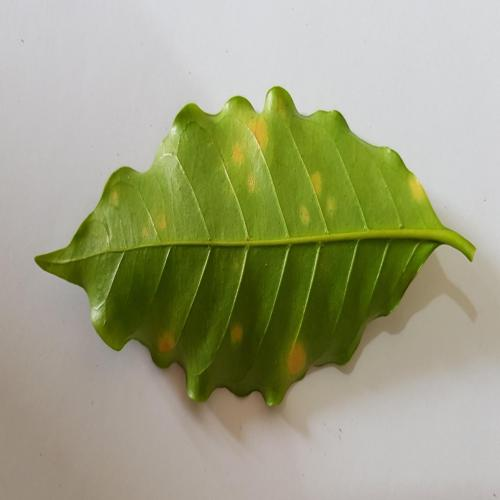phoma: (247, 120, 267, 156)
